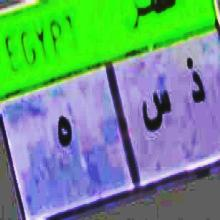5: (55, 105, 74, 155)
seen: (137, 81, 172, 143)
zaal: (183, 53, 205, 112)
